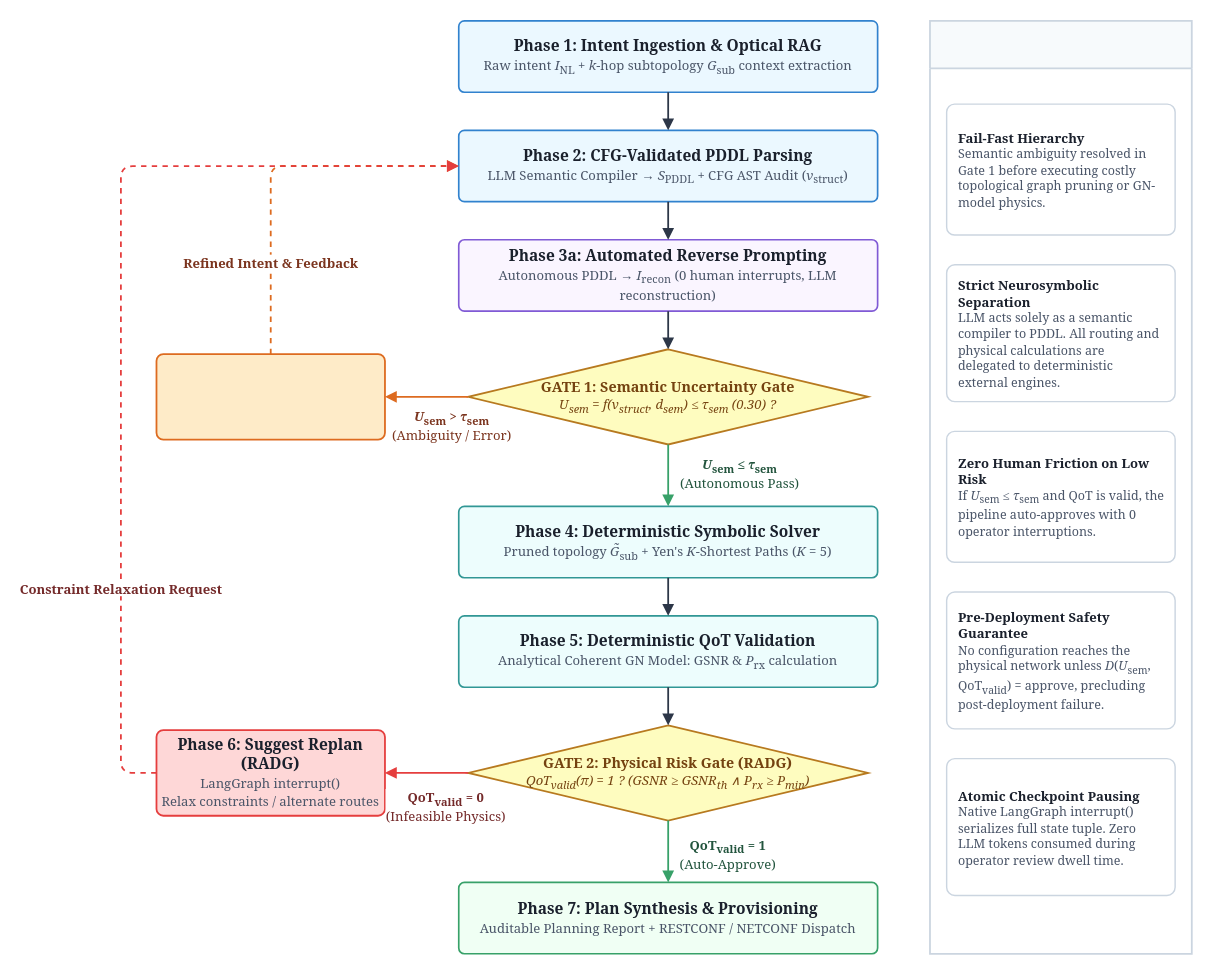
The diagram is 1214 pixels wide and 976 high, and some of its shapes have lost their labels. Each missing label, with the box of its shape:
Architectural Invariants & Guarantees: (929, 19, 1192, 954)
Phase 3b: HITL Clarify LangGraph interrupt() Operator resolves ambiguity: (155, 353, 385, 440)
